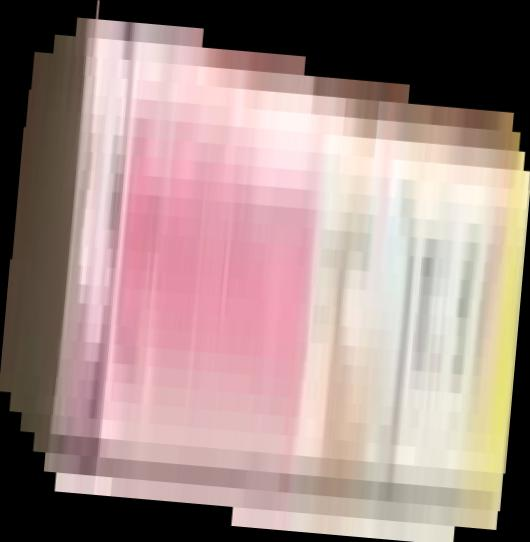flat: (1, 1, 530, 542)
